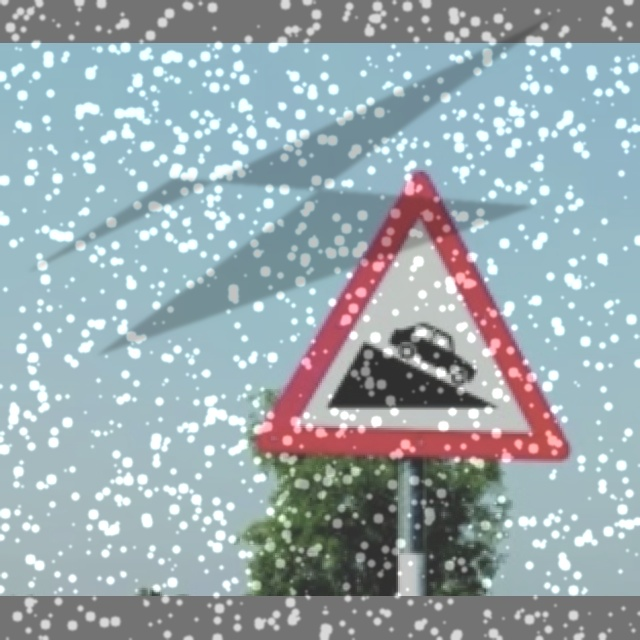Steep_Descent: (252, 169, 583, 465)
